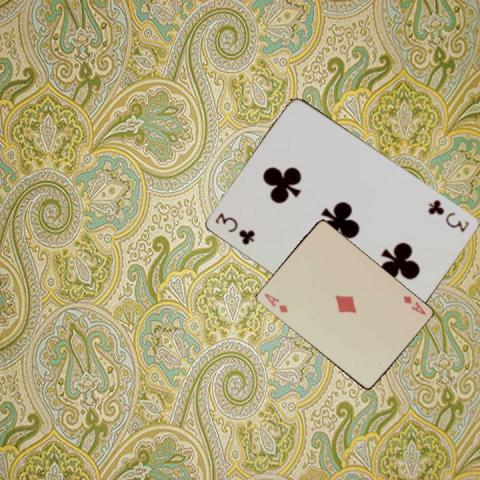3c: (425, 196, 471, 233), (212, 209, 256, 247)
Ad: (262, 290, 290, 314), (400, 293, 427, 316)
